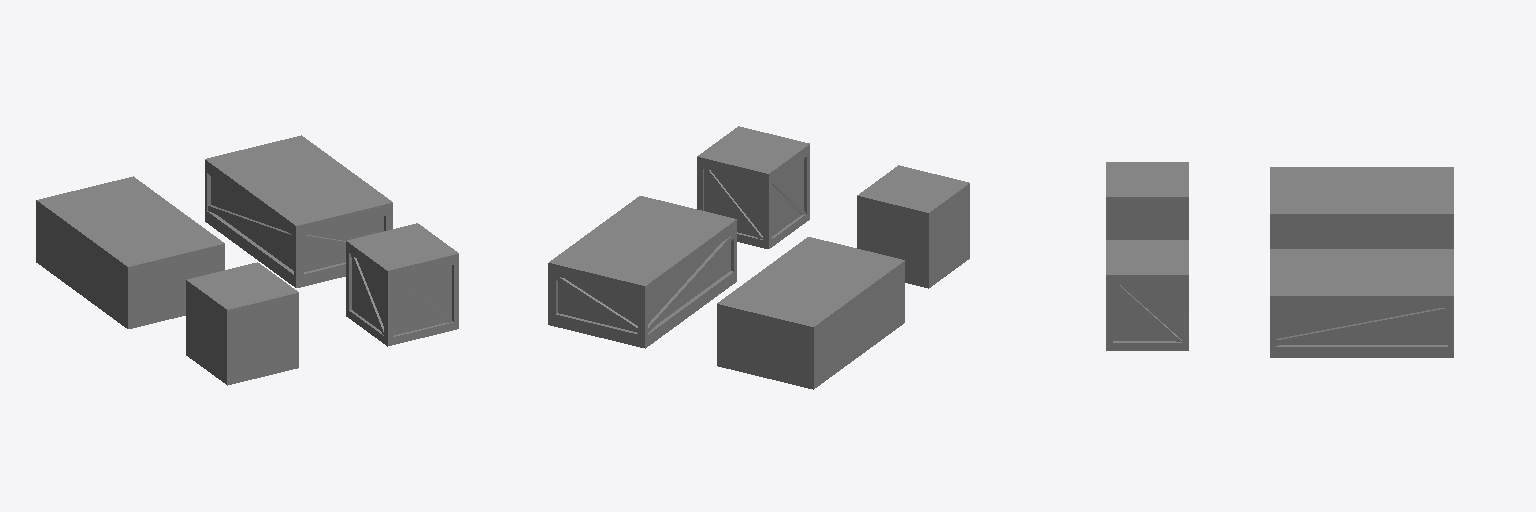
File: boxes.obj
3 renders of one model, left to right at view 1: azimuth 30°, elevation 25°; view 2: azimuth 150°, elevation 25°; view 3: azimuth 270°, elevation 25°, orthographic.
Visible parts, largest first — view 1: Wooden_box_v1; view 2: Wooden_box_v1; view 3: Wooden_box_v1.
Part boxes in pixels (x1,y1,x2,y2): Wooden_box_v1: (36,135,458,385); Wooden_box_v1: (548,126,969,389); Wooden_box_v1: (1106,162,1453,357).
Size of the model in its own units: 5.68 by 1.54 by 6.45.